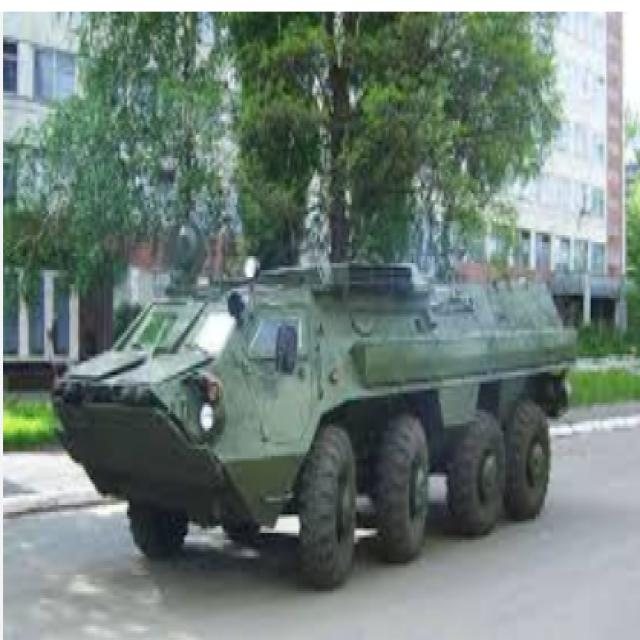MIL_APC: (45, 249, 600, 585)
